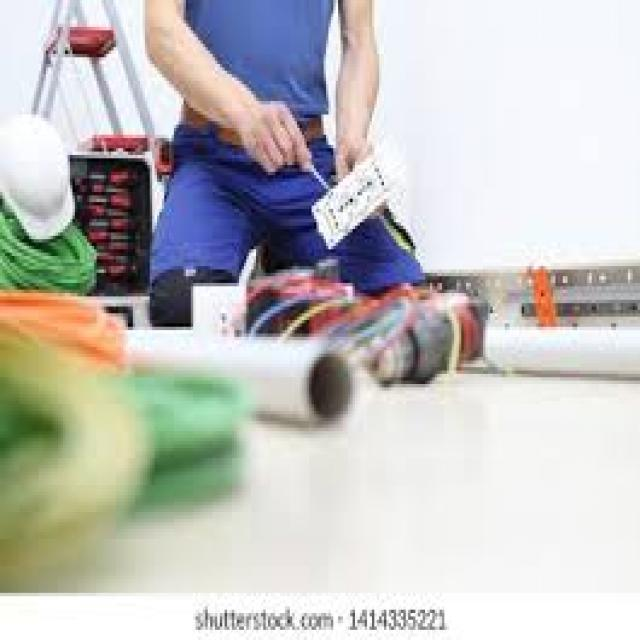screwdriver: (284, 128, 346, 209)
